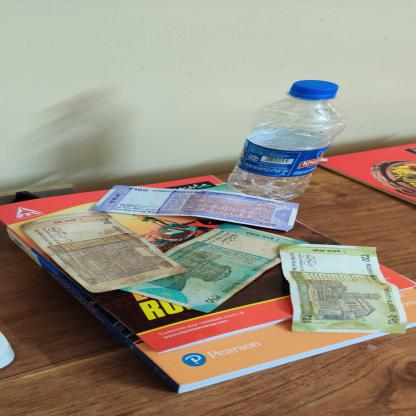New100Back: (86, 184, 300, 233)
New10Back: (18, 210, 190, 293)
New20Back: (279, 243, 407, 334)
New50Back: (118, 223, 310, 314)
